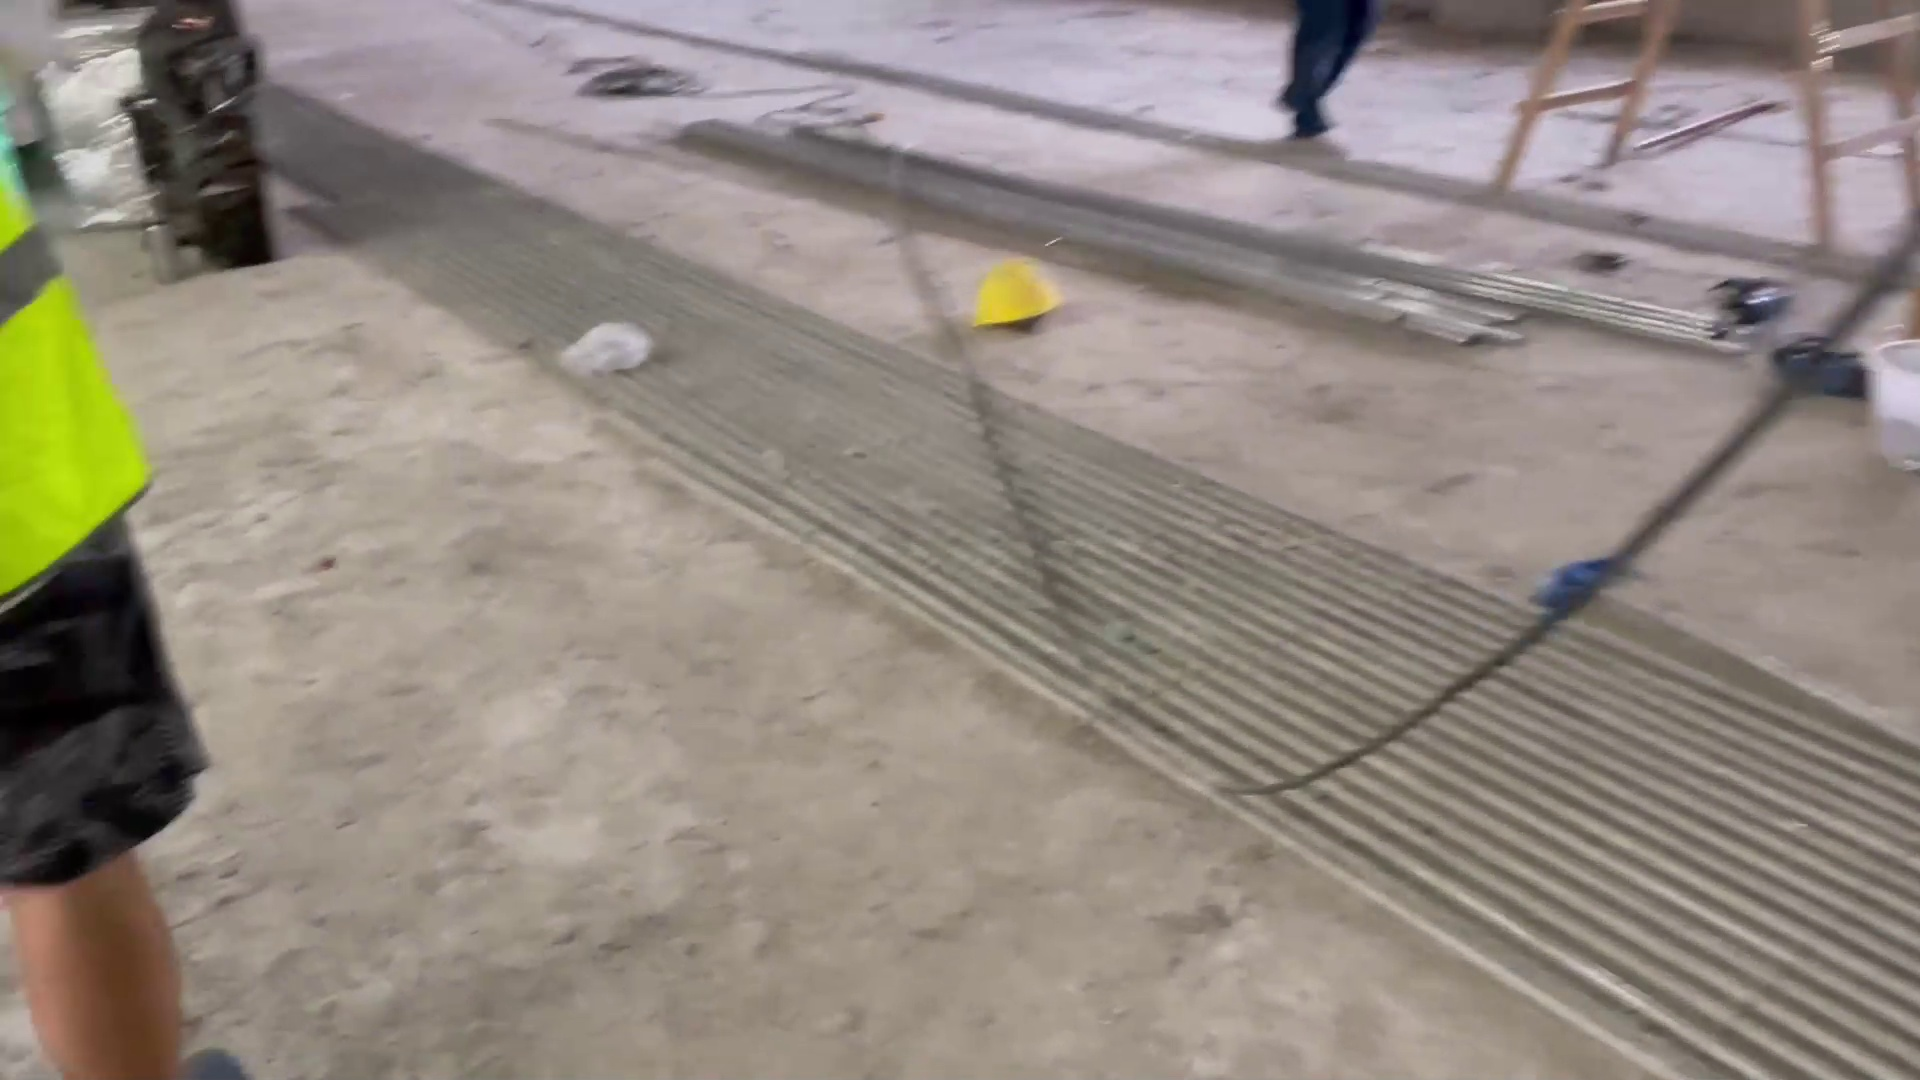helmet: (967, 254, 1062, 332)
person: (1, 94, 272, 1070), (1271, 1, 1352, 159)
vest: (1, 119, 187, 615)
